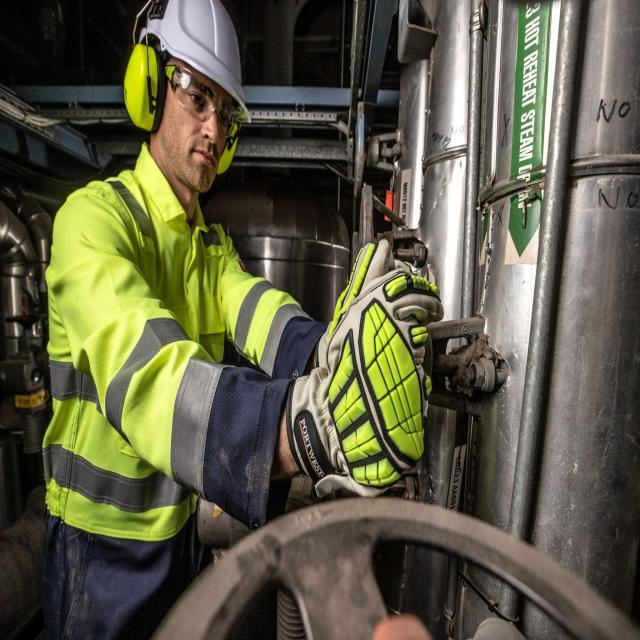Goggles: (161, 61, 240, 142)
gloves: (286, 238, 443, 494)
